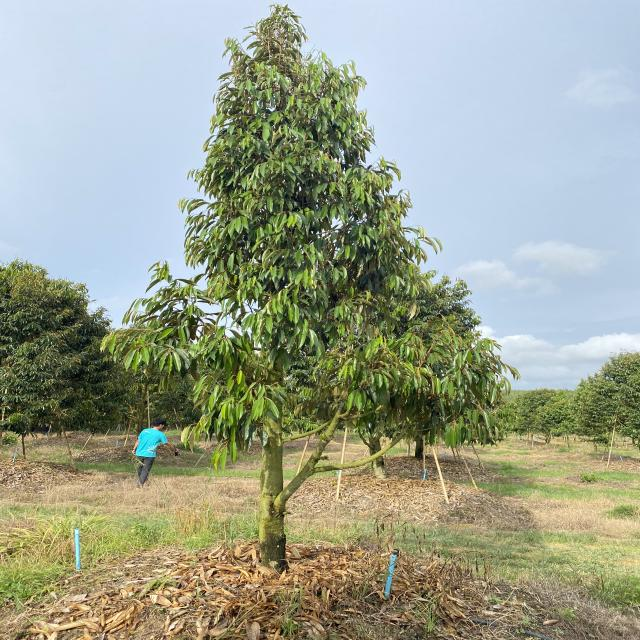Tree: (140, 0, 484, 581), (589, 357, 640, 458)
